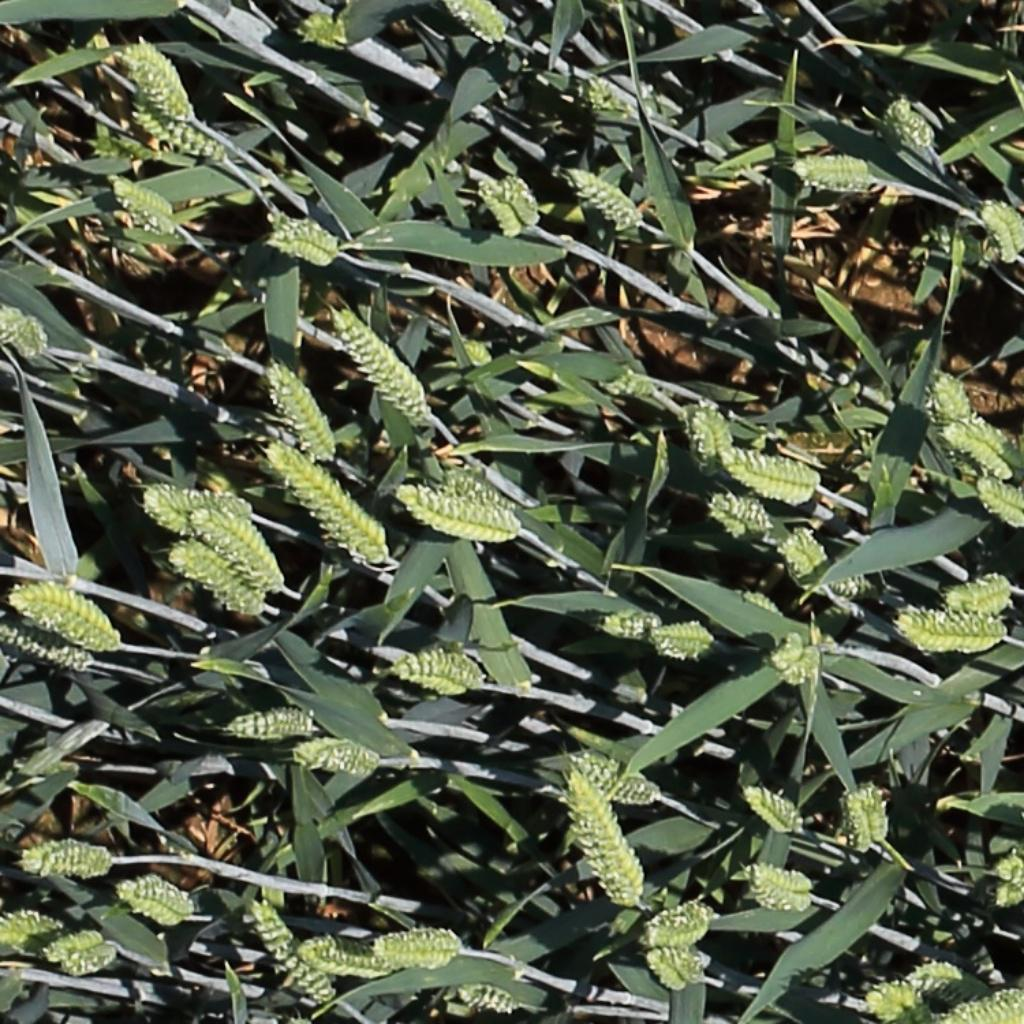0-0: (268, 445, 389, 562), (331, 303, 432, 425), (2, 576, 128, 668), (569, 765, 645, 912), (248, 892, 334, 1008), (706, 442, 833, 512), (264, 357, 339, 462), (191, 507, 286, 589), (181, 524, 274, 604), (391, 638, 499, 706), (129, 480, 251, 536), (172, 544, 262, 615), (122, 39, 193, 122), (364, 921, 474, 974), (395, 490, 518, 536), (569, 60, 655, 125), (886, 954, 995, 1004), (21, 828, 125, 880), (789, 147, 882, 205), (132, 105, 226, 159), (897, 599, 1000, 648), (581, 356, 667, 414), (116, 872, 202, 928), (110, 176, 190, 236), (799, 561, 890, 612), (569, 165, 643, 226), (572, 755, 659, 806), (0, 623, 91, 671), (294, 731, 385, 779), (473, 163, 527, 243), (766, 522, 839, 581), (0, 902, 77, 955), (647, 613, 728, 663), (225, 703, 329, 741), (947, 425, 1017, 480), (0, 305, 54, 373), (978, 196, 1024, 266), (931, 364, 977, 434), (445, 468, 512, 514), (266, 210, 339, 252), (887, 91, 937, 152), (745, 786, 805, 836), (456, 326, 510, 381), (741, 856, 816, 895), (692, 397, 733, 468), (945, 568, 1014, 610), (498, 167, 544, 230), (974, 836, 1024, 892), (845, 783, 883, 856), (449, 0, 509, 45), (948, 989, 1024, 1021), (300, 950, 393, 976), (647, 946, 696, 995), (749, 880, 815, 916), (712, 495, 775, 532), (856, 782, 888, 854), (771, 645, 824, 688), (457, 985, 528, 1017), (45, 927, 108, 961), (976, 479, 1022, 525), (58, 944, 117, 976), (270, 233, 337, 260), (876, 985, 929, 1019), (649, 906, 712, 932), (868, 991, 920, 1021), (647, 922, 711, 946), (602, 614, 663, 637), (303, 16, 350, 45), (979, 877, 1024, 907), (965, 391, 1022, 409)
